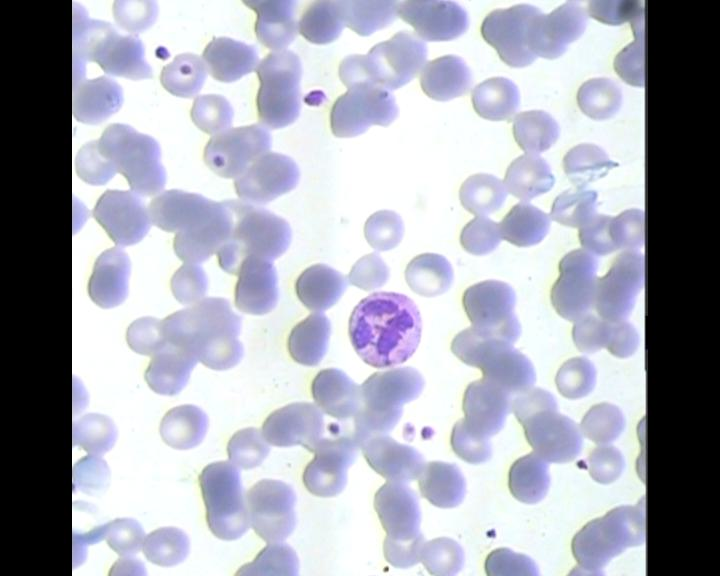neut: (345, 288, 426, 373)
